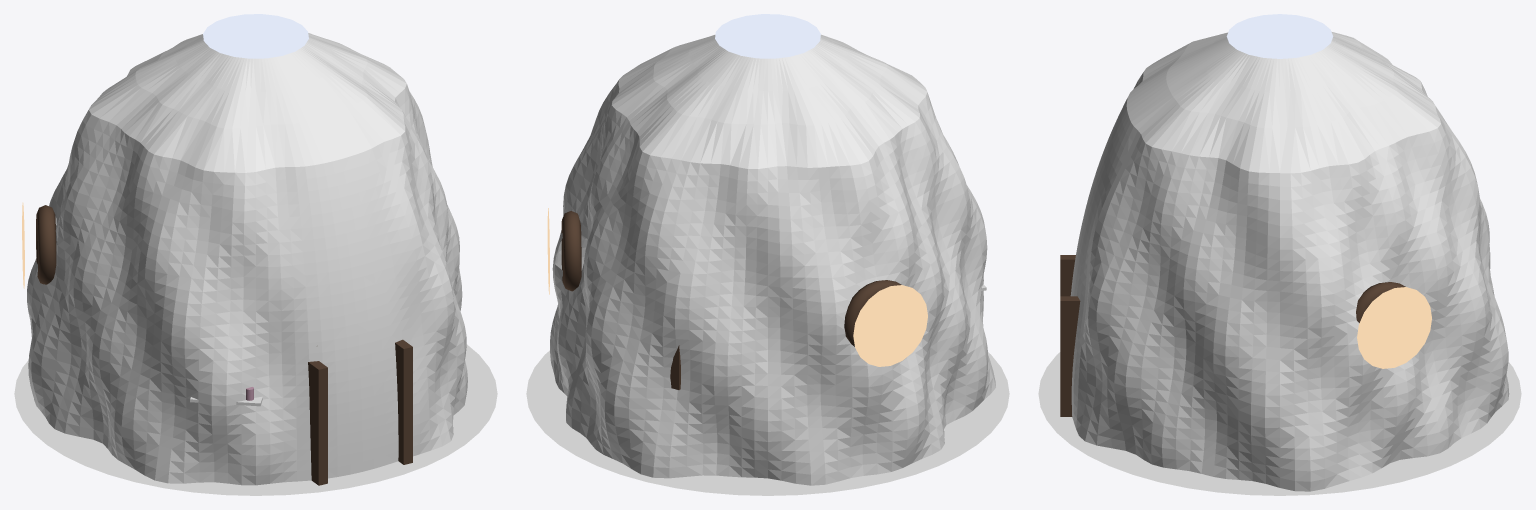
The model's file is cana.glb.
The picture shows the model from 3 angles, left to right: view 1: azimuth 30°, elevation 25°; view 2: azimuth 150°, elevation 25°; view 3: azimuth 270°, elevation 25°; orthographic projection.
Parts seen in each view (by area): view 1: pared, piso, cielo_clara, jamba-1, jamba1, aro1; view 2: pared, piso, cielo_v1, cielo_clara, aro0, aro1; view 3: pared, piso, cielo_v0, cielo_clara, jamba1, aro0, jamba-1.
Part boxes in pixels (bbox=[...]): pared: bbox=[27, 33, 467, 485]; piso: bbox=[14, 344, 497, 495]; cielo_clara: bbox=[203, 14, 308, 58]; jamba-1: bbox=[308, 361, 327, 485]; jamba1: bbox=[395, 339, 412, 464]; aro1: bbox=[36, 205, 56, 284]; pared: bbox=[550, 34, 995, 485]; piso: bbox=[526, 350, 1009, 495]; cielo_v1: bbox=[853, 285, 927, 366]; cielo_clara: bbox=[715, 14, 820, 58]; aro0: bbox=[561, 211, 581, 291]; aro1: bbox=[844, 280, 901, 346]; pared: bbox=[1070, 32, 1509, 491]; piso: bbox=[1038, 352, 1521, 495]; cielo_v0: bbox=[1357, 287, 1431, 368]; cielo_clara: bbox=[1226, 14, 1333, 58]; jamba1: bbox=[1060, 296, 1080, 416]; aro0: bbox=[1356, 282, 1405, 322]; jamba-1: bbox=[1060, 255, 1075, 296].
Size of the model in its own units: 6.8 by 5.55 by 6.8.
